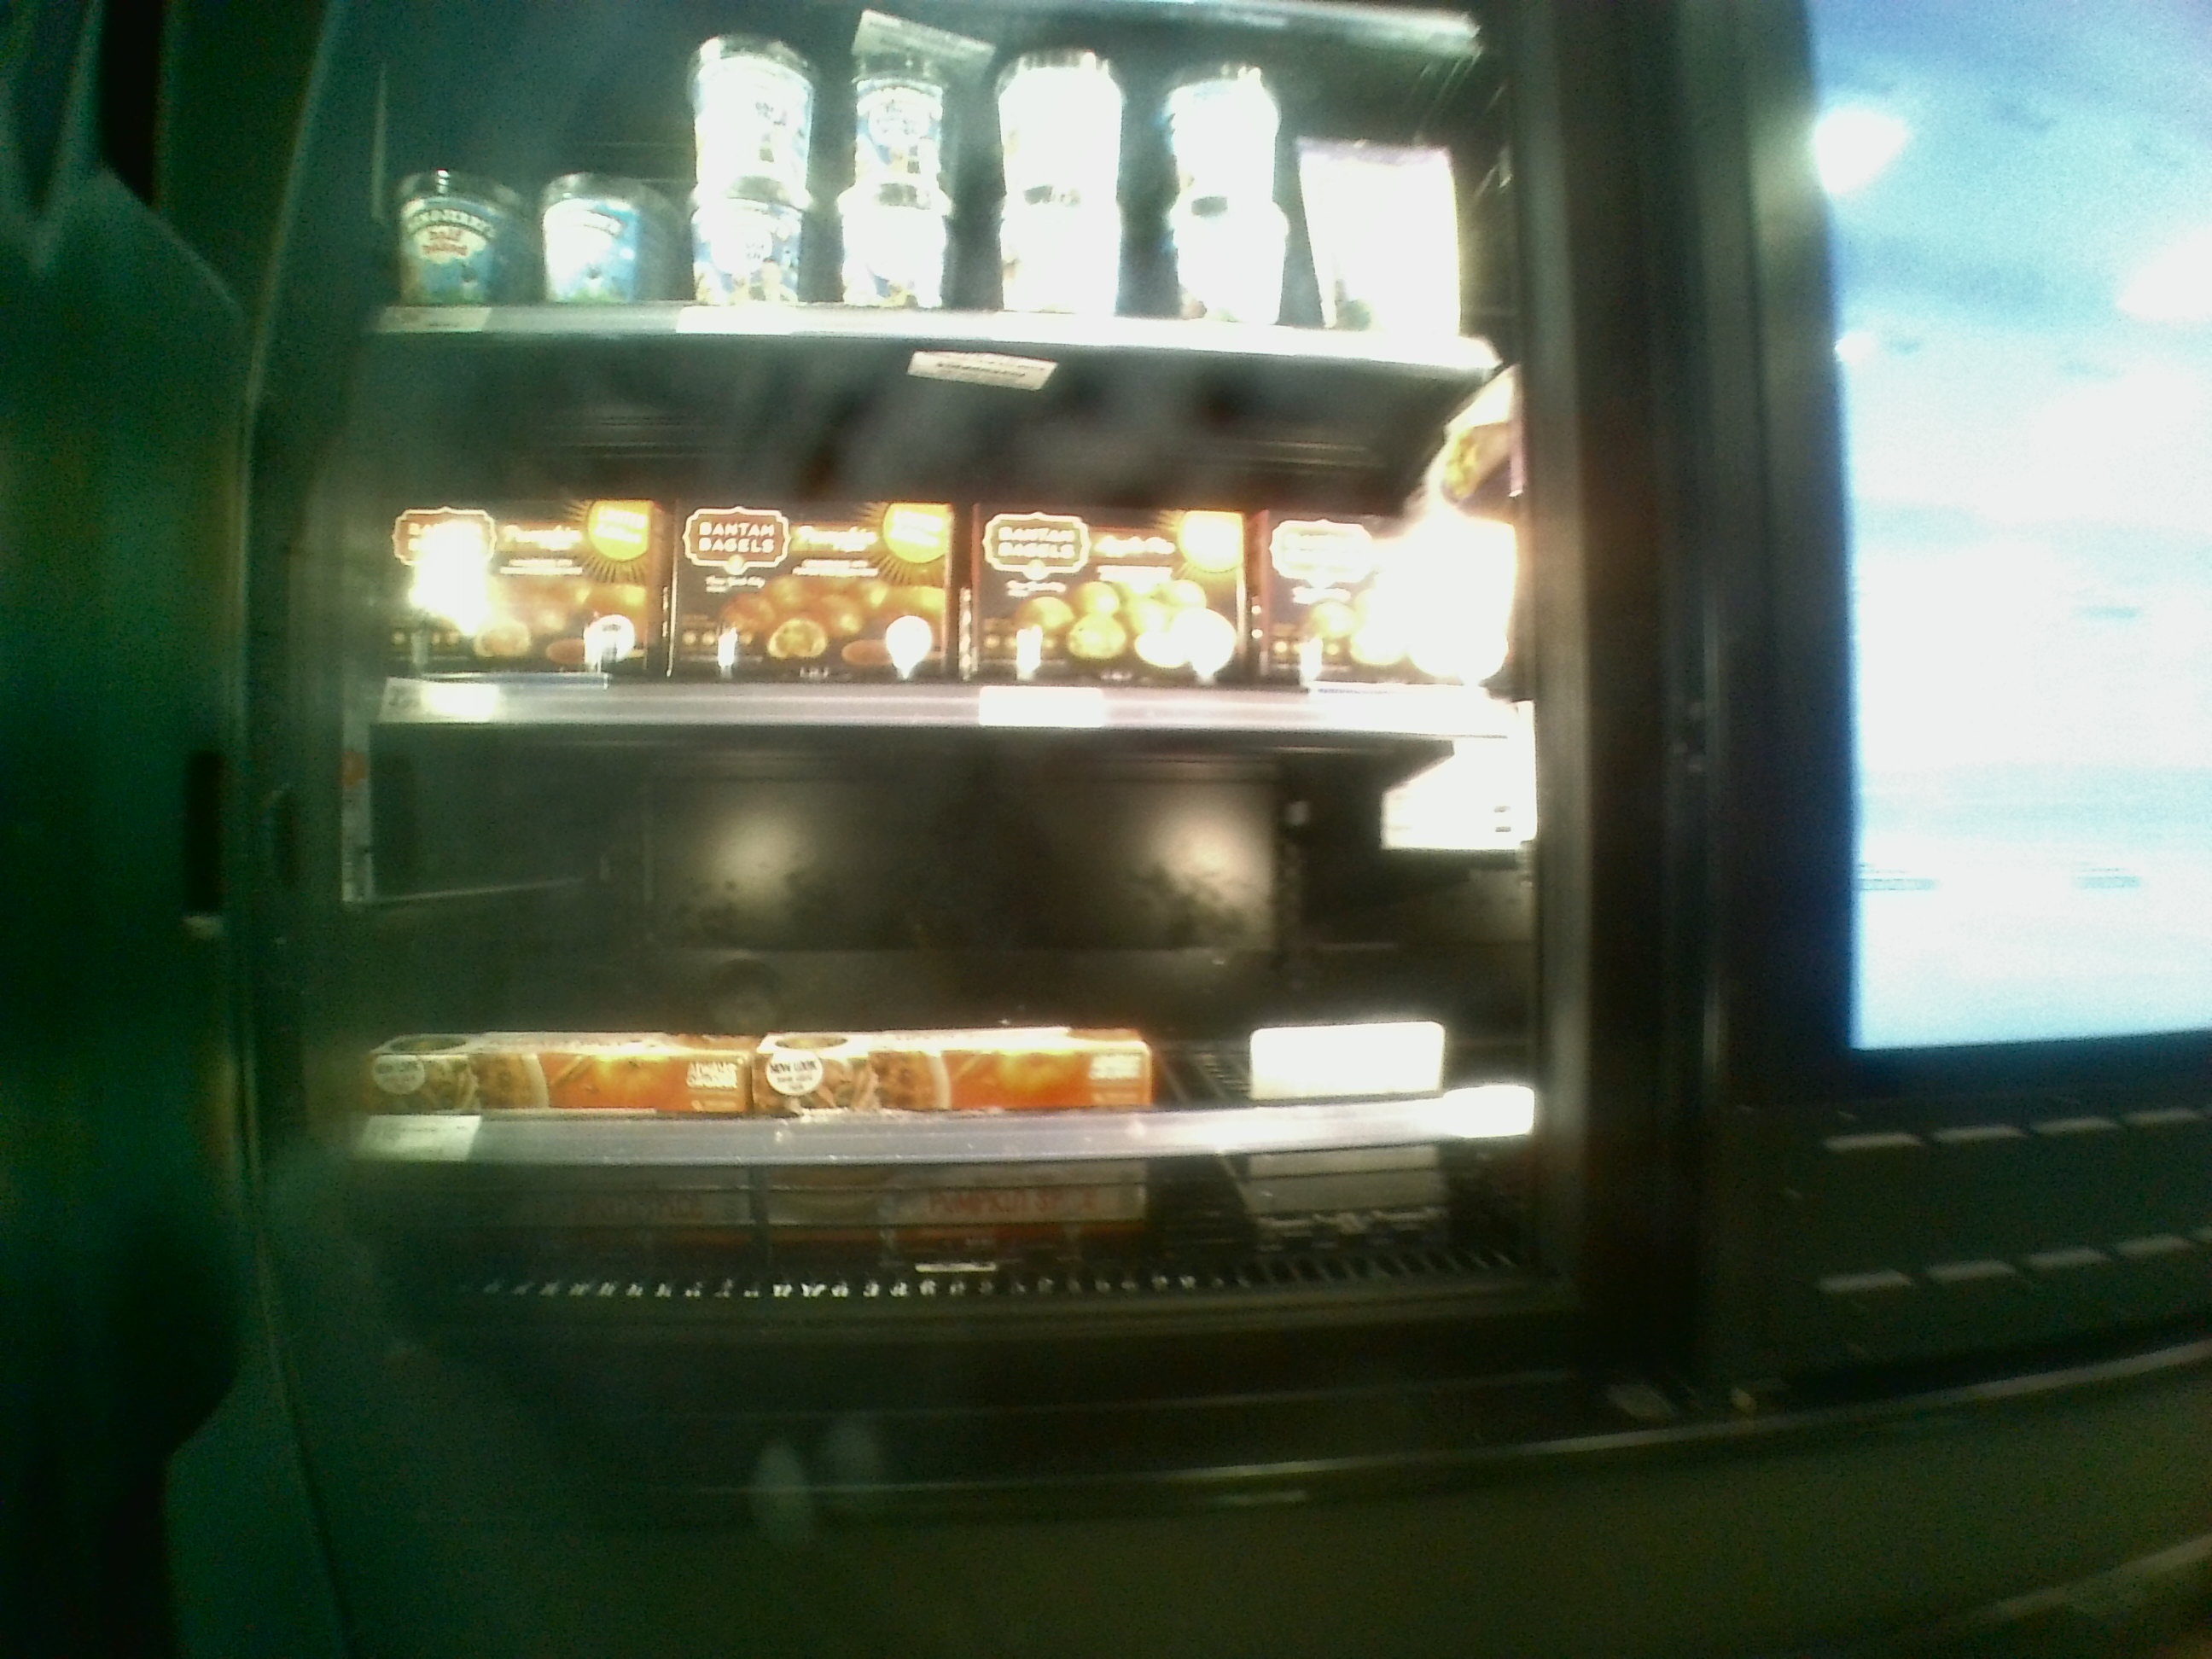shelf: (333, 652, 1550, 1314), (381, 326, 1519, 732)
